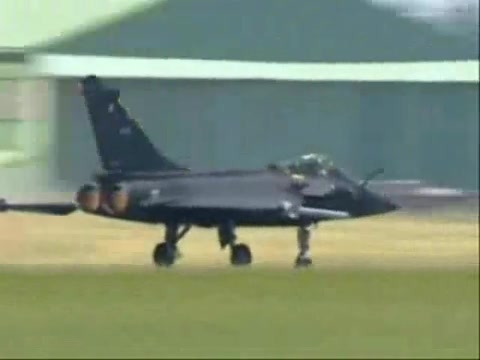aeroplane: (2, 76, 403, 266)
